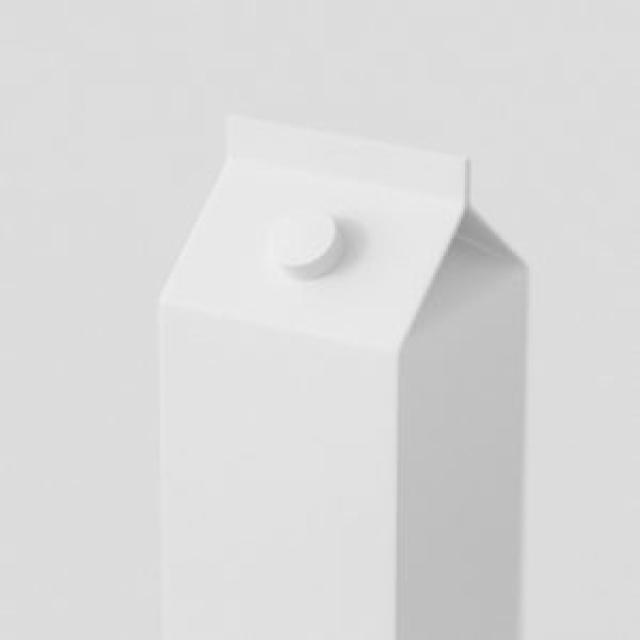Carton: (128, 96, 538, 640)
